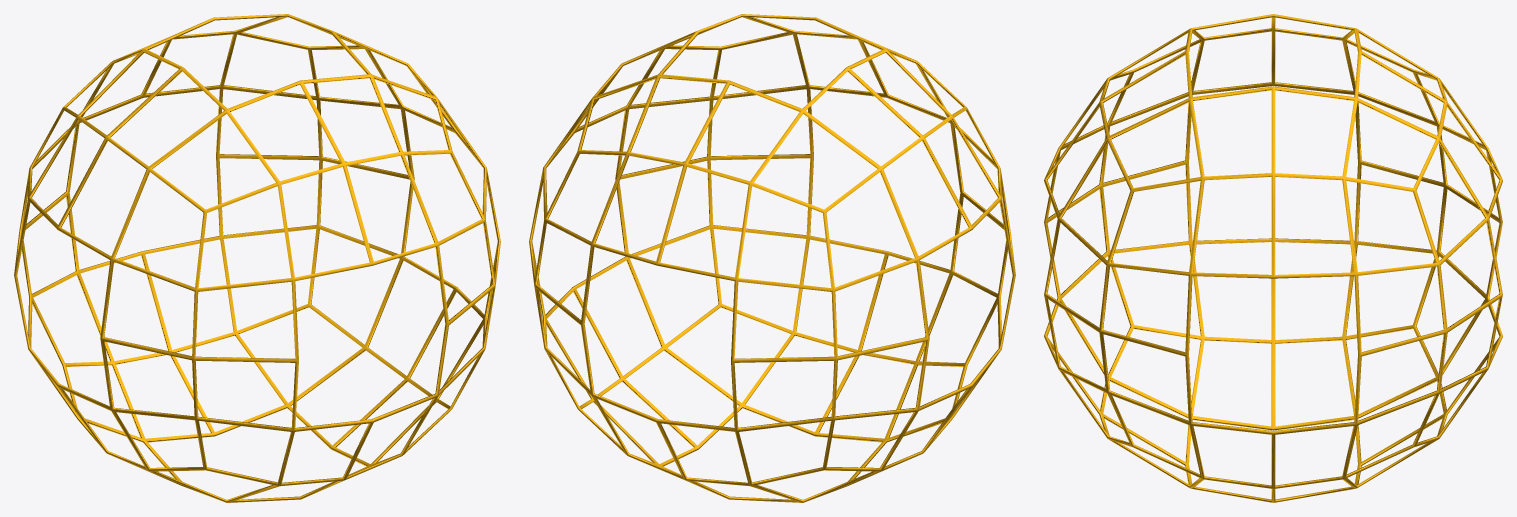
The model's file is island7.glb.
3 views of the same model, side by side, from view 1: azimuth 30°, elevation 25°; view 2: azimuth 150°, elevation 25°; view 3: azimuth 270°, elevation 25° (orthographic).
Visible parts, largest first — view 1: Roundcube.003; view 2: Roundcube.003; view 3: Roundcube.003.
Boxes of the visible parts, bbox=[...] form: Roundcube.003: bbox=[14, 14, 500, 502]; Roundcube.003: bbox=[529, 14, 1015, 502]; Roundcube.003: bbox=[1044, 14, 1502, 502].
Size of the model in its own units: 1.7 by 1.7 by 1.7.
